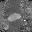people: (8, 13, 21, 22)
